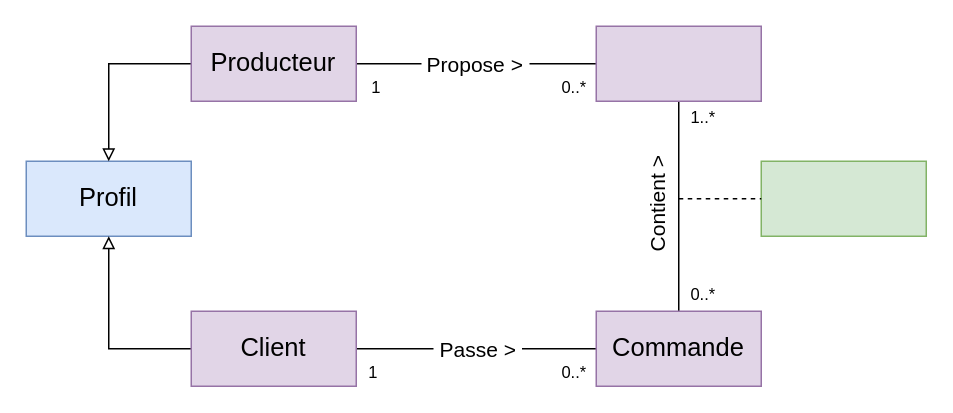
The diagram is 953 pixels wide and 413 high, and some of its shapes have lost their labels. Here are the shapes that lost their labels. From the top down, the box of each, then its label:
(595, 25, 761, 101): Produit
(760, 160, 926, 236): Contient
